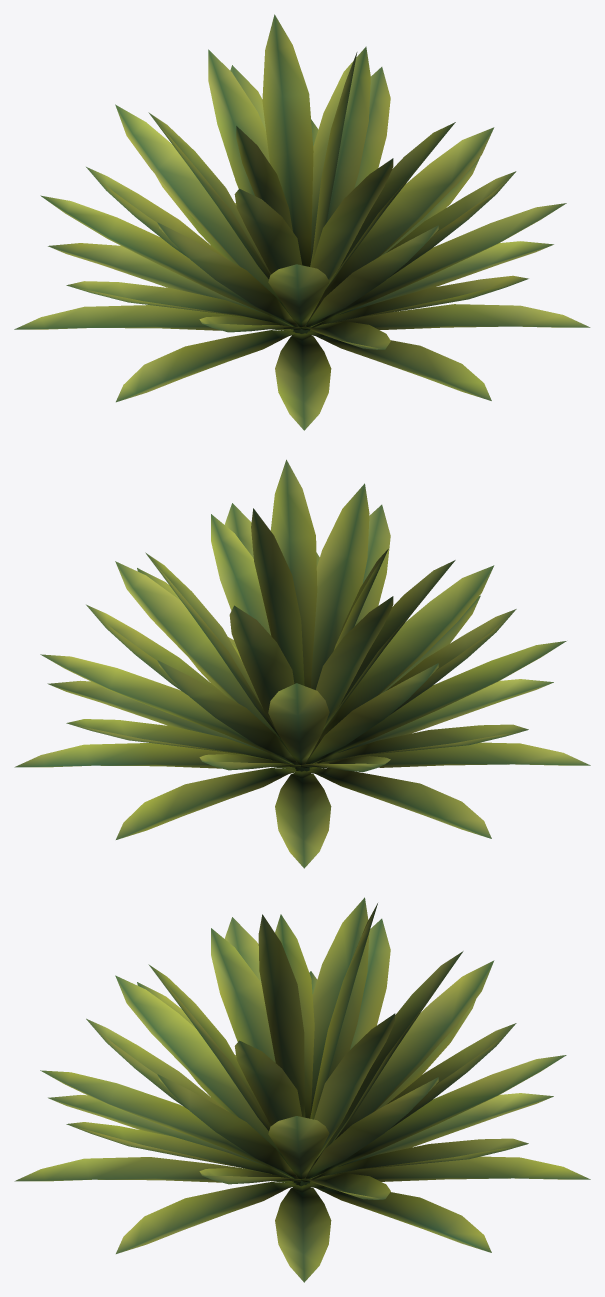
File: plants-cacti-succulents-agave_v3.fbx
3 views of the same model, one above another, from view 1: azimuth 30°, elevation 25°; view 2: azimuth 150°, elevation 25°; view 3: azimuth 270°, elevation 25° (orthographic).
Parts seen in each view (by area): view 1: Agave_v3; view 2: Agave_v3; view 3: Agave_v3.
Part boxes in pixels (box(x1,y1,x2,y2)): Agave_v3: box(14, 14, 590, 430); Agave_v3: box(14, 459, 590, 868); Agave_v3: box(14, 897, 590, 1282).
Bounding box in the file's own units: 1.18 × 0.7398 × 1.2.
